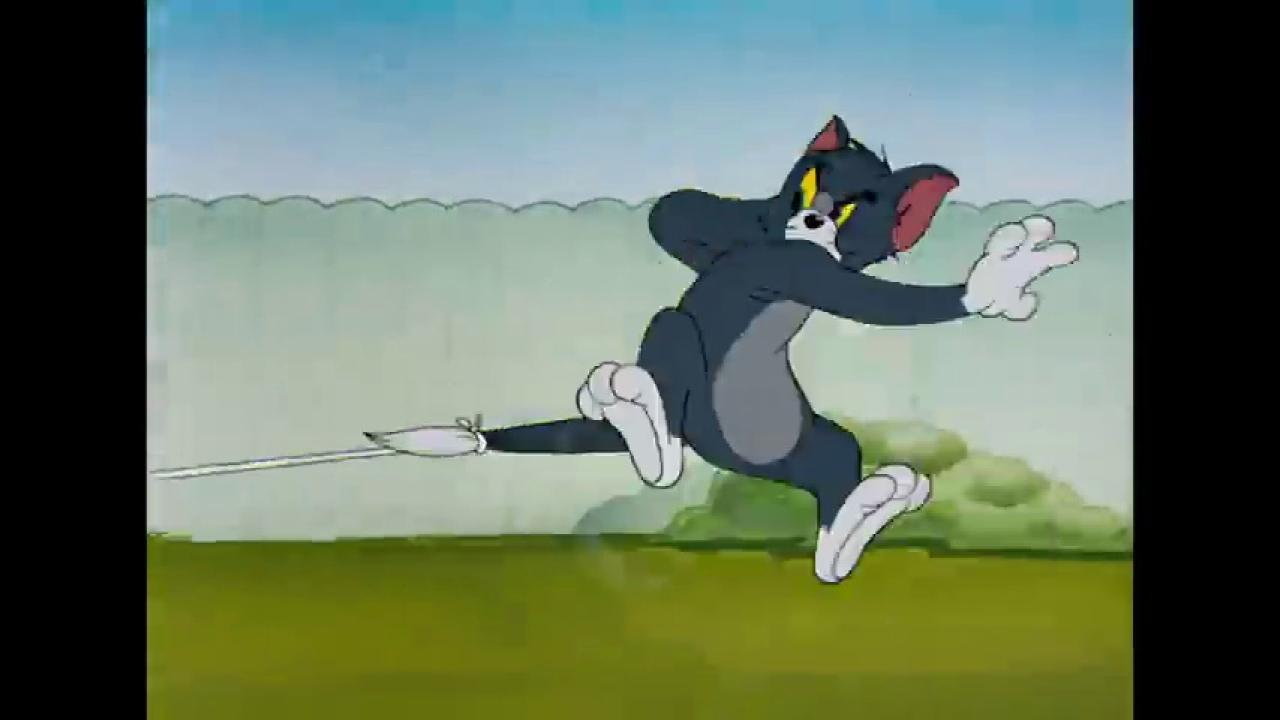Tom: (360, 112, 1082, 589)
